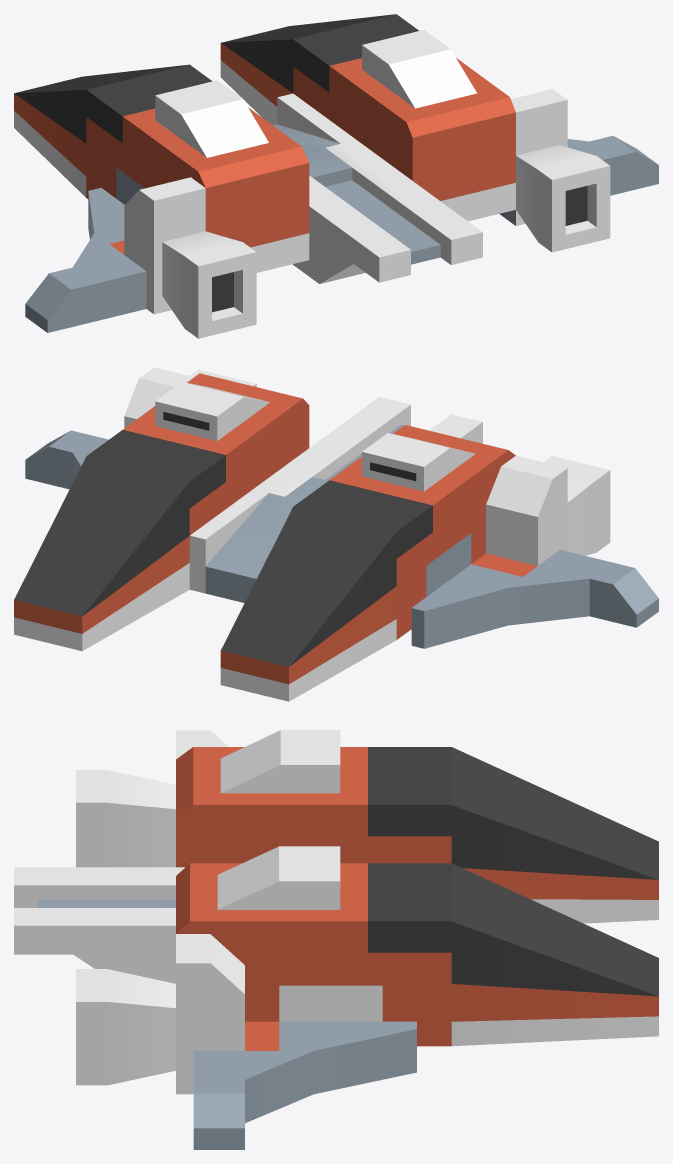
File: spaceCraft6.glb
3 renders of one model, top to bottom at view 1: azimuth 30°, elevation 25°; view 2: azimuth 150°, elevation 25°; view 3: azimuth 270°, elevation 25°, orthographic. The views are drawn at different scales.
Parts seen in each view (by area): view 1: spaceCraft6_8angles; view 2: spaceCraft6_8angles; view 3: spaceCraft6_8angles.
Part boxes in pixels (x1,y1,x2,y2): spaceCraft6_8angles: (14, 14, 658, 338); spaceCraft6_8angles: (14, 367, 658, 701); spaceCraft6_8angles: (14, 730, 658, 1149).
Bounding box in the file's own units: 23.35 × 5.45 × 18.5.
